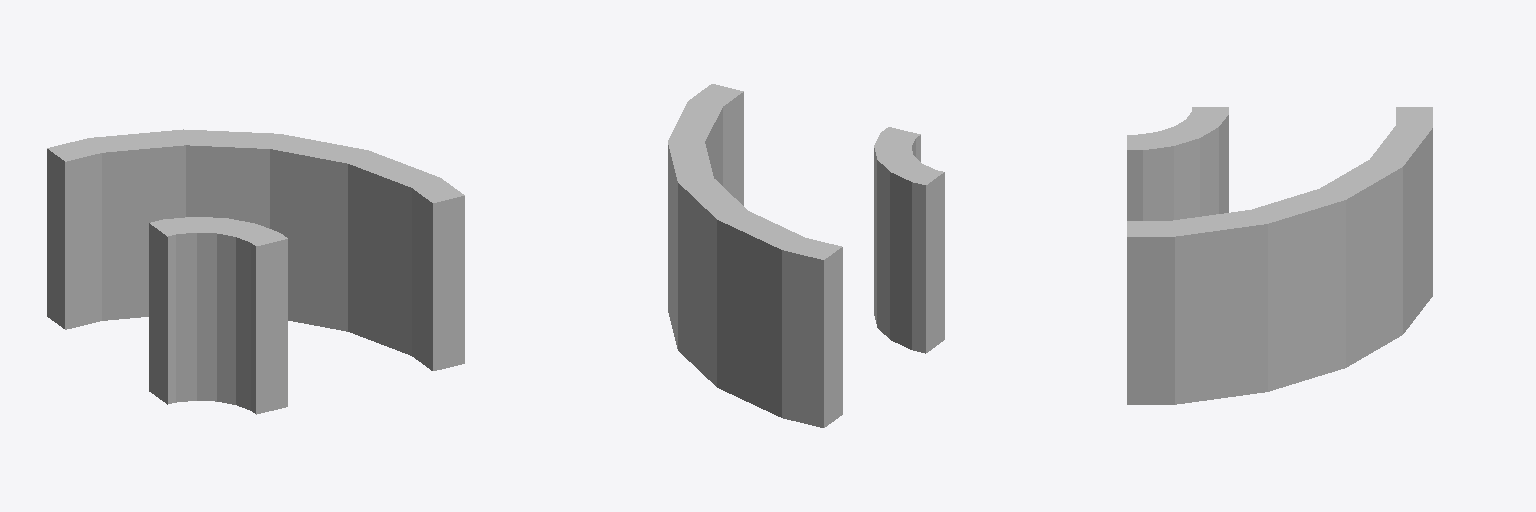
The model's file is struct_large_curved_wall.obj.
3 renders of one model, left to right at view 1: azimuth 30°, elevation 25°; view 2: azimuth 150°, elevation 25°; view 3: azimuth 270°, elevation 25°, orthographic.
Visible parts, largest first — view 1: struct_large_curved_wall, struct_large_curved_wall_2; view 2: struct_large_curved_wall, struct_large_curved_wall_2; view 3: struct_large_curved_wall, struct_large_curved_wall_2.
Boxes of the visible parts, x1=… form: struct_large_curved_wall: x1=47, y1=129, x2=464, y2=370; struct_large_curved_wall_2: x1=149, y1=217, x2=287, y2=414; struct_large_curved_wall: x1=668, y1=84, x2=842, y2=427; struct_large_curved_wall_2: x1=874, y1=127, x2=944, y2=353; struct_large_curved_wall: x1=1127, y1=107, x2=1432, y2=404; struct_large_curved_wall_2: x1=1127, y1=107, x2=1228, y2=220.
Bounding box in the file's own units: 1.65 × 1 × 1.65.